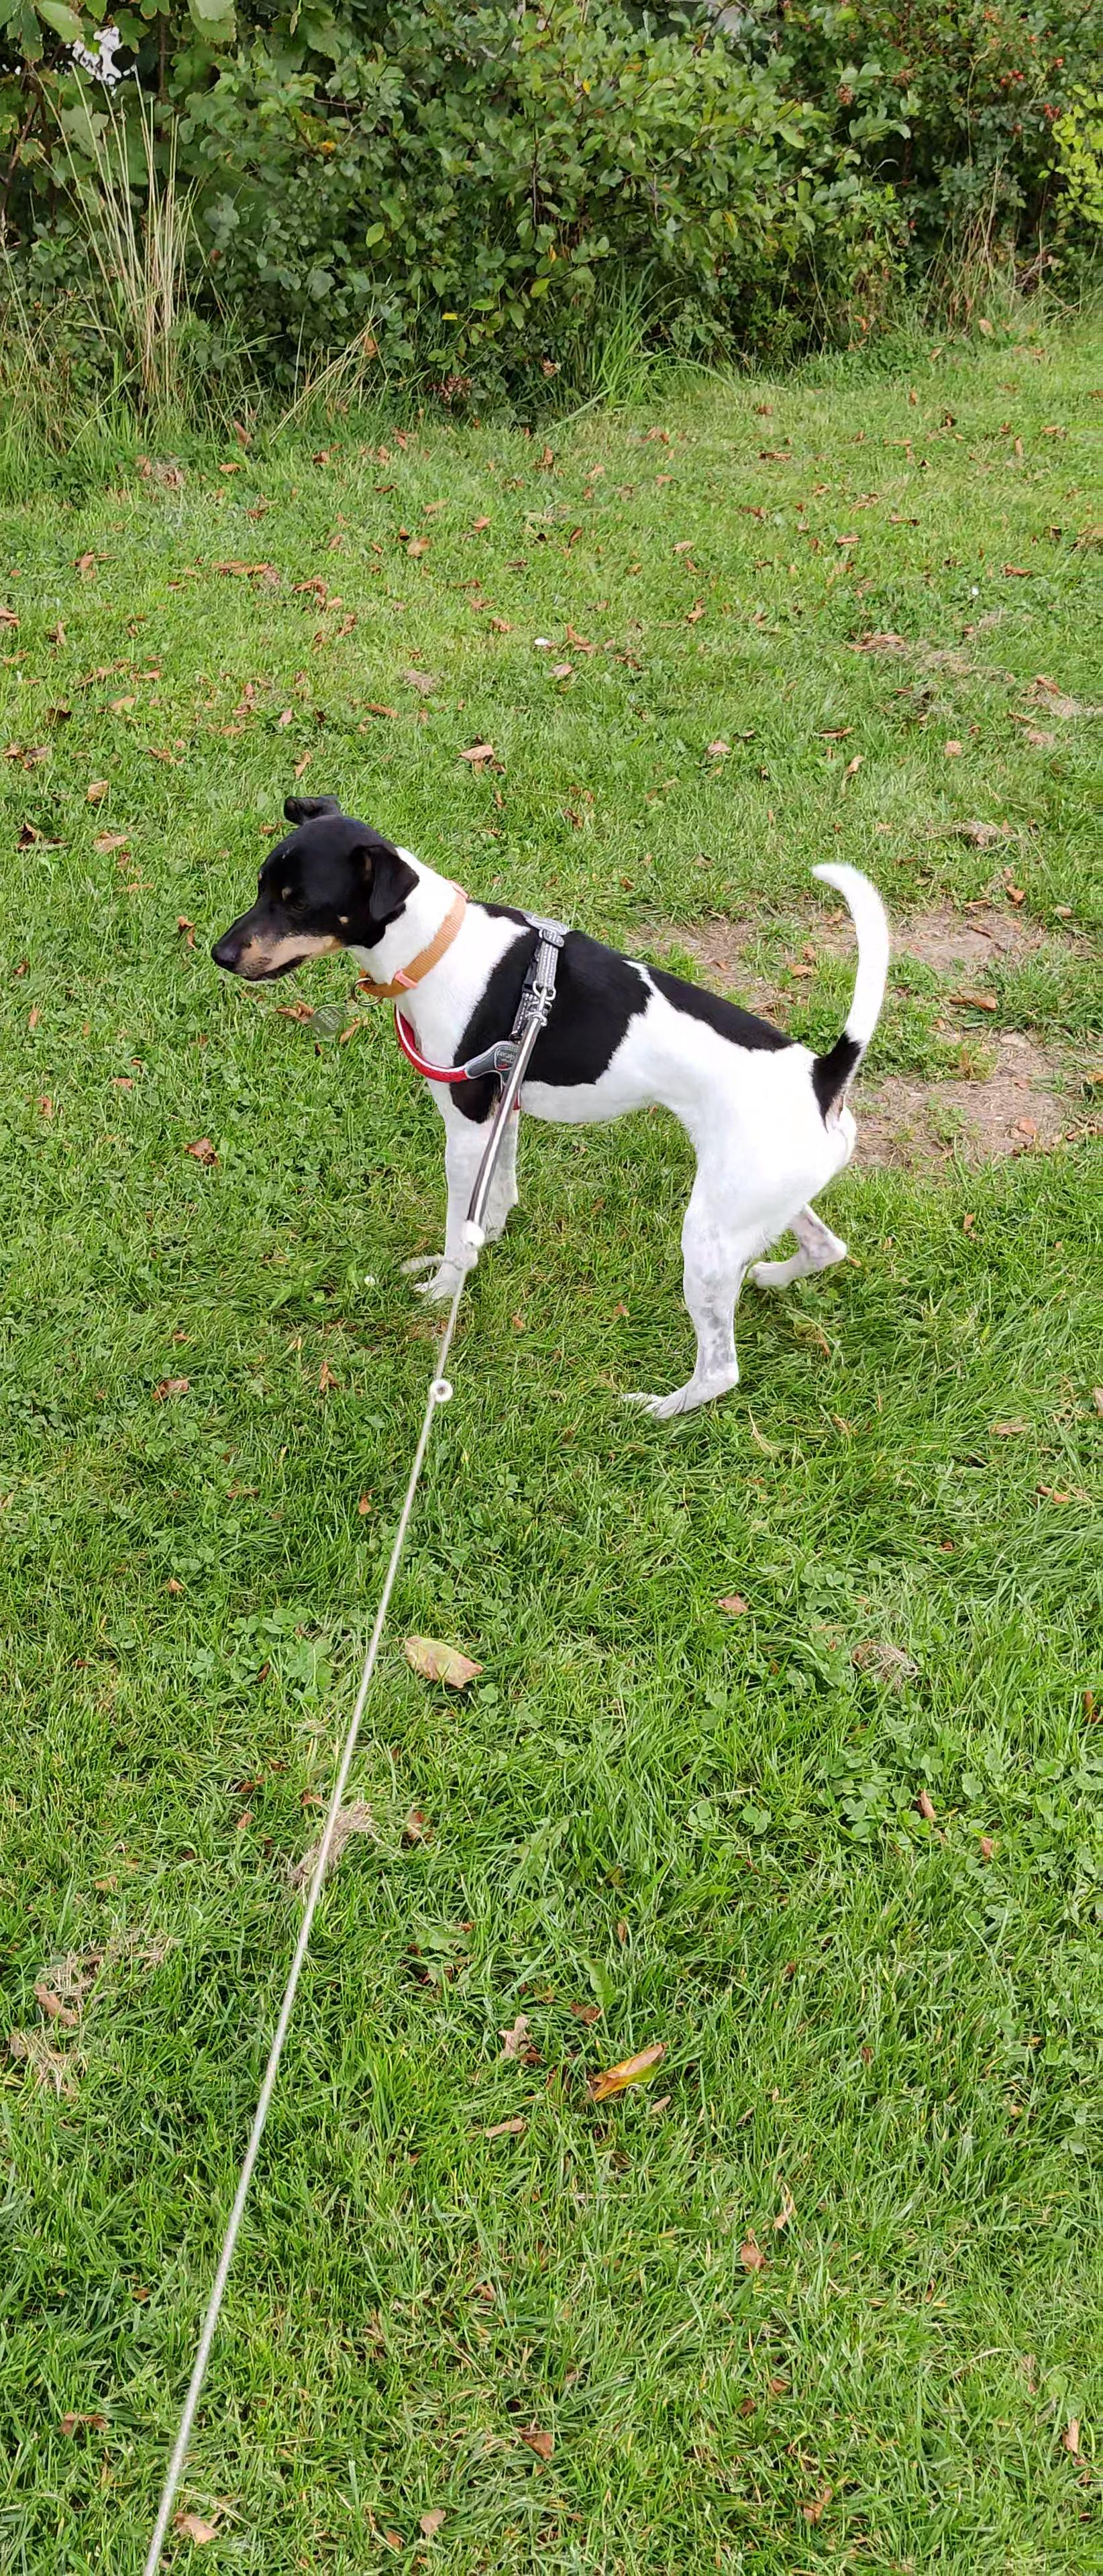Dog: (186, 772, 909, 1436)
